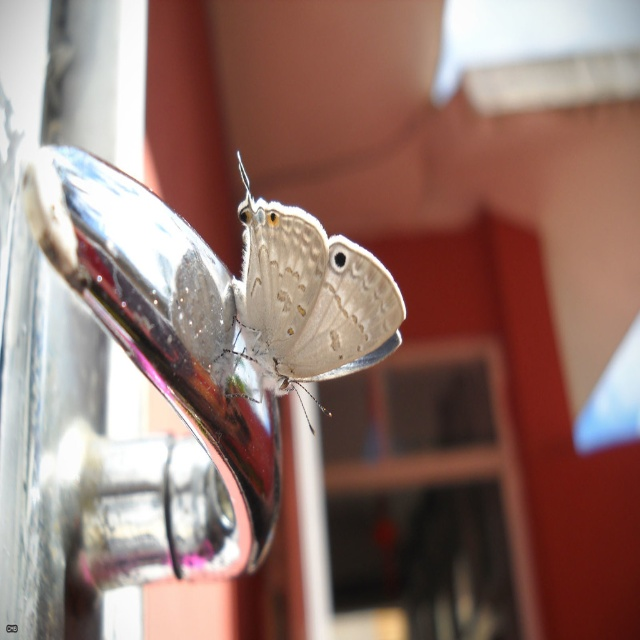Butterfly: (186, 173, 411, 442)
